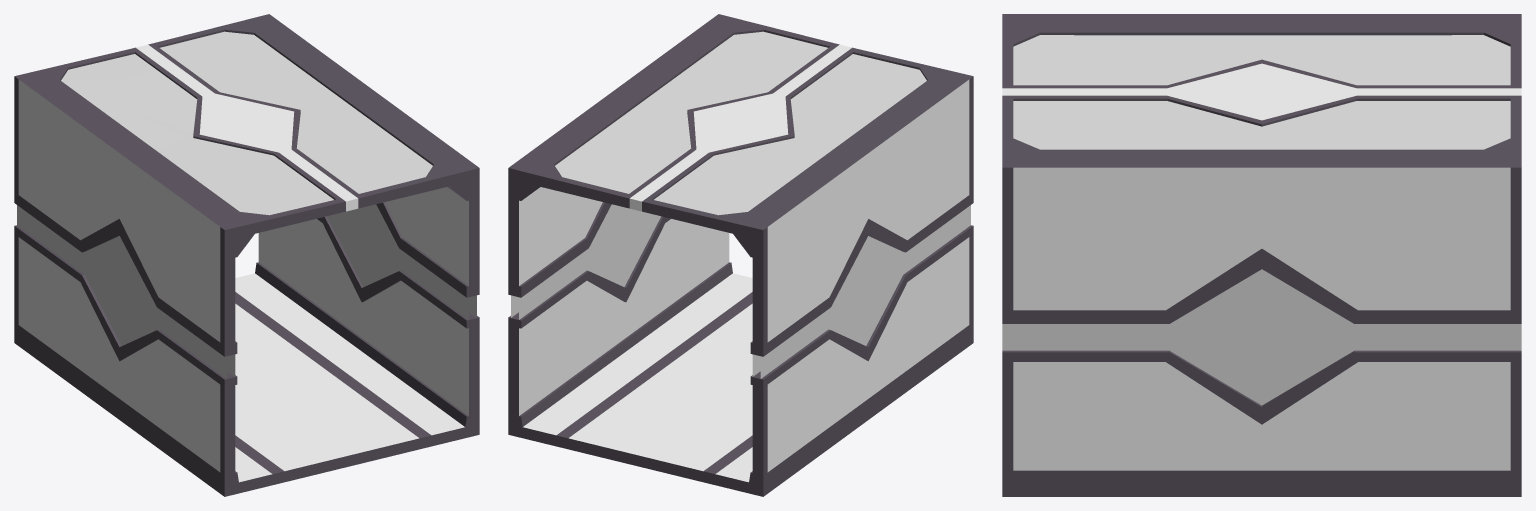
File: TunnelSection.fbx
3 views of the same model, side by side, from view 1: azimuth 30°, elevation 25°; view 2: azimuth 150°, elevation 25°; view 3: azimuth 270°, elevation 25° (orthographic). The views are drawn at different scales.
Parts seen in each view (by area): view 1: TunnelSection, TunnelGlassSection; view 2: TunnelSection, TunnelGlassSection; view 3: TunnelSection, TunnelGlassSection.
Part boxes in pixels (bbox=[...]): TunnelSection: bbox=[14, 14, 479, 496]; TunnelGlassSection: bbox=[17, 31, 476, 378]; TunnelSection: bbox=[508, 14, 973, 496]; TunnelGlassSection: bbox=[511, 31, 970, 378]; TunnelSection: bbox=[1002, 14, 1521, 496]; TunnelGlassSection: bbox=[1002, 35, 1521, 405].
Size of the model in its own units: 14 by 14 by 20.
